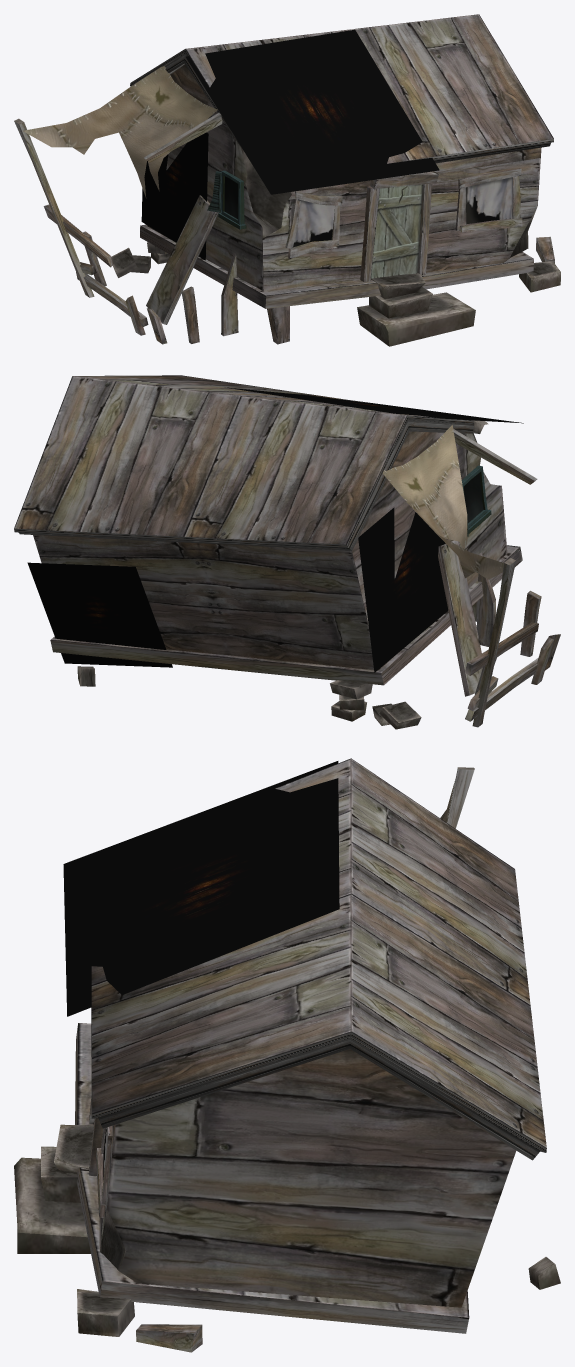
File: pir_m_bld_shn_houseH_destroyed.fbx
3 renders of one model, top to bottom at view 1: azimuth 30°, elevation 25°; view 2: azimuth 150°, elevation 25°; view 3: azimuth 270°, elevation 25°, orthographic. The views are drawn at different scales.
Visible parts, largest first — view 1: house_geo, pPlane3, canvas2, platform, pPlane2, door_right, stair1, pasted__wood_High, canvas1, curtain1, woodsupport, group1 (+19 smaller); view 2: house_geo, pPlane4, pPlane2, platform, canvas2, pasted__wood_High, woodsupport, pPlane3, fence_post6, woodsupport2, canvas1, fence_horiz1 (+7 smaller); view 3: house_geo, pPlane3, platform, stair1, atone, stair3, post, stair2, woodsupport, woodsupport_geo.
Boxes of the visible parts, left/top/right/bottom form: house_geo: left=130, top=14, right=553, bottom=291; pPlane3: left=185, top=29, right=439, bottom=194; canvas2: left=66, top=66, right=217, bottom=198; platform: left=140, top=224, right=533, bottom=308; pPlane2: left=141, top=132, right=208, bottom=260; door_right: left=370, top=184, right=422, bottom=278; stair1: left=357, top=292, right=475, bottom=346; pasted__wood_High: left=146, top=195, right=218, bottom=324; canvas1: left=23, top=66, right=215, bottom=193; curtain1: left=466, top=177, right=512, bottom=224; woodsupport: left=14, top=118, right=94, bottom=297; group1: left=293, top=199, right=334, bottom=247; house_geo: left=14, top=375, right=507, bottom=670; pPlane4: left=27, top=562, right=172, bottom=667; pPlane2: left=358, top=507, right=448, bottom=672; platform: left=50, top=545, right=522, bottom=685; canvas2: left=382, top=425, right=503, bottom=579; pasted__wood_High: left=438, top=540, right=482, bottom=696; woodsupport: left=472, top=558, right=515, bottom=727; pPlane3: left=225, top=387, right=523, bottom=423; fence_post6: left=476, top=552, right=495, bottom=646; woodsupport2: left=453, top=429, right=537, bottom=484; canvas1: left=383, top=428, right=474, bottom=576; fence_horiz1: left=465, top=622, right=538, bottom=675; house_geo: left=91, top=758, right=546, bottom=1307; pPlane3: left=63, top=761, right=339, bottom=1016; platform: left=75, top=1023, right=469, bottom=1333; stair1: left=14, top=1157, right=90, bottom=1253; atone: left=77, top=1289, right=134, bottom=1336; stair3: left=54, top=1124, right=93, bottom=1172; post: left=136, top=1324, right=202, bottom=1352; stair2: left=41, top=1146, right=80, bottom=1202; woodsupport: left=447, top=767, right=474, bottom=828; woodsupport_geo: left=528, top=1257, right=560, bottom=1289.
Bounding box in the file's own units: 3816 × 2120 × 2685.
Materials: 4 (4 with a texture image).
